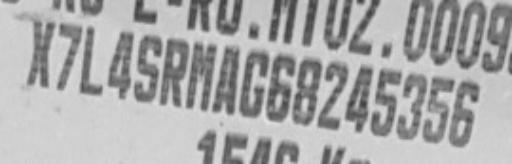letter: (314, 58, 350, 130), (367, 67, 403, 138), (184, 39, 218, 113), (263, 51, 297, 125), (422, 71, 456, 145), (22, 14, 54, 92), (237, 49, 271, 121), (290, 56, 324, 128), (159, 34, 191, 110), (447, 76, 481, 147), (104, 28, 136, 102), (396, 70, 428, 144), (132, 32, 162, 108), (343, 63, 375, 134), (210, 41, 240, 115), (55, 20, 83, 94), (77, 24, 105, 95)
